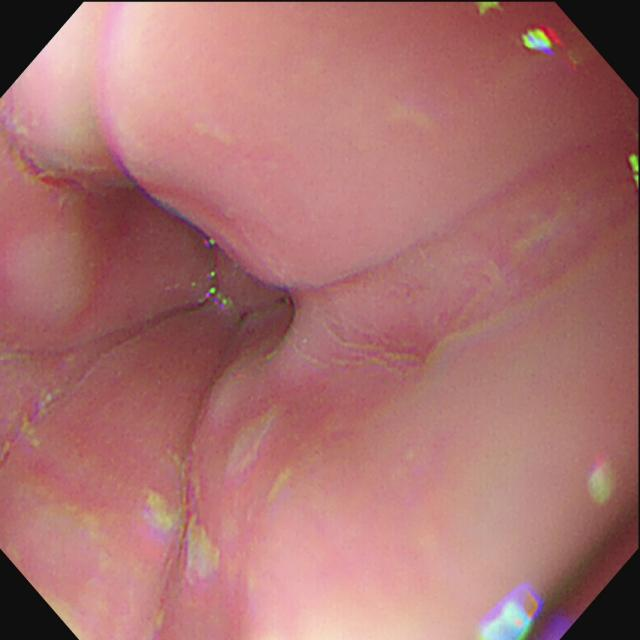D: (18, 151, 86, 191)
U: (479, 585, 540, 640), (586, 454, 622, 506), (521, 24, 566, 57), (207, 288, 229, 310), (631, 156, 640, 190)
